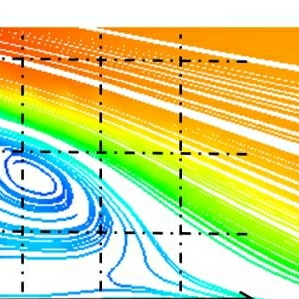vortox: (1, 136, 113, 262)
